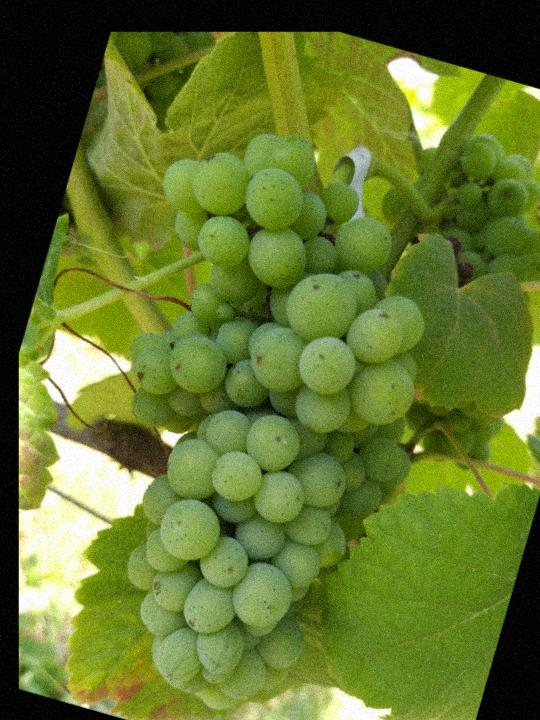grape: (26, 103, 493, 720)
